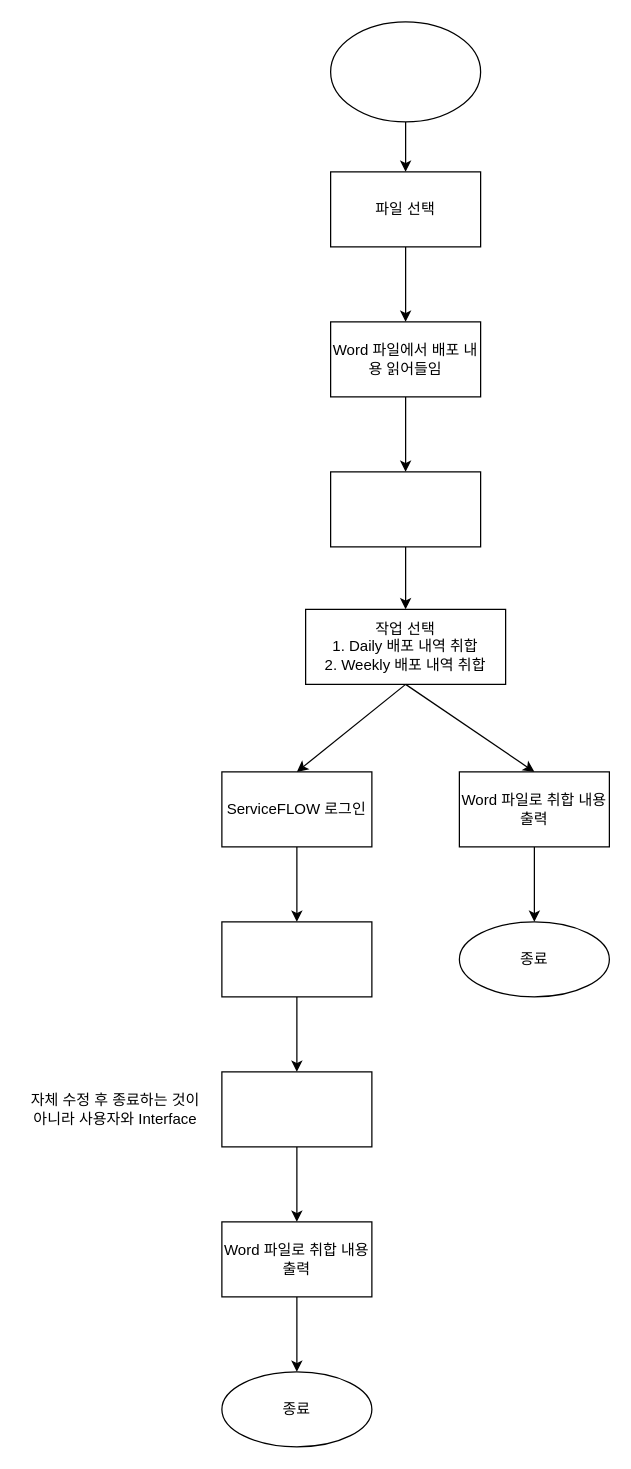
Image size: 631x1469. Some labels were removed from this diagram. Each missing label, with the centre of its shape:
"ServiceFLOW 데이터 읽어들임" belongs at [296,959].
"데이터 검증 및 수정" belongs at [296,1109].
"오류 내용 수정" belongs at [405,509].
"프로그램 실행" belongs at [405,71].
